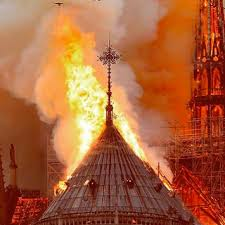fire: (50, 32, 176, 155)
